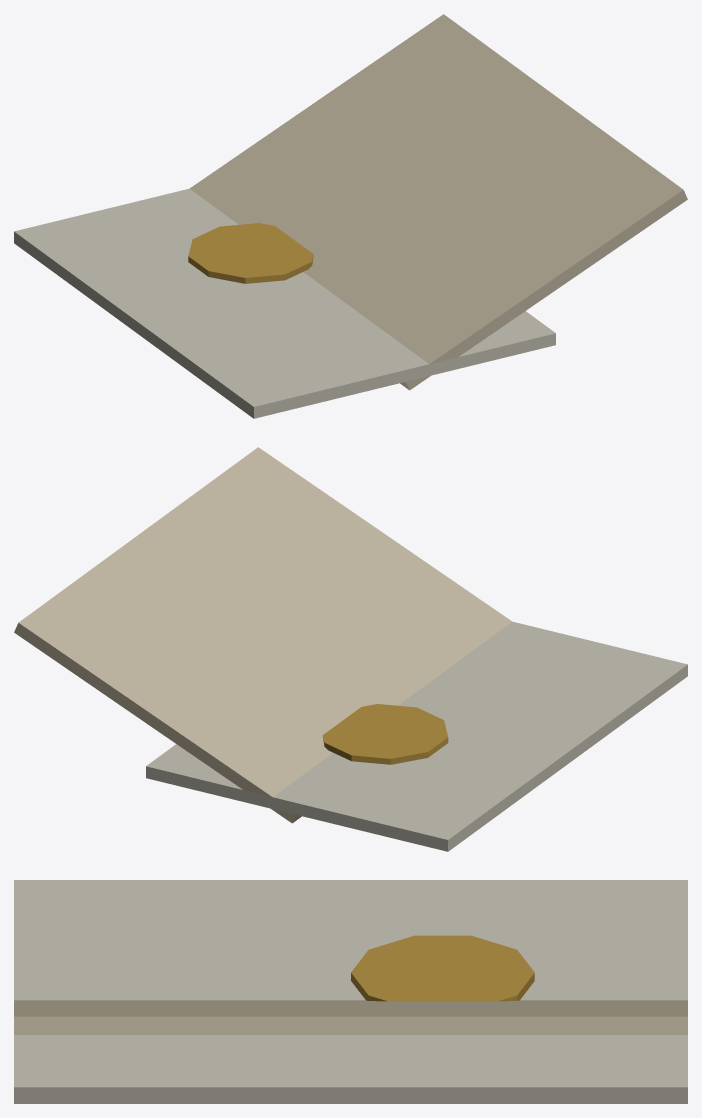
File: village_pamphlet.glb
The picture shows the model from 3 angles, top to bottom: view 1: azimuth 30°, elevation 25°; view 2: azimuth 150°, elevation 25°; view 3: azimuth 270°, elevation 25°; orthographic projection. The views are drawn at different scales.
Parts seen in each view (by area): view 1: village_pamphlet; view 2: village_pamphlet; view 3: village_pamphlet.
Part boxes in pixels (<box>): village_pamphlet: <box>14,14,687,418</box>; village_pamphlet: <box>14,447,687,851</box>; village_pamphlet: <box>14,880,687,1103</box>.
Size of the model in its own units: 0.2299 by 0.0678 by 0.22.
